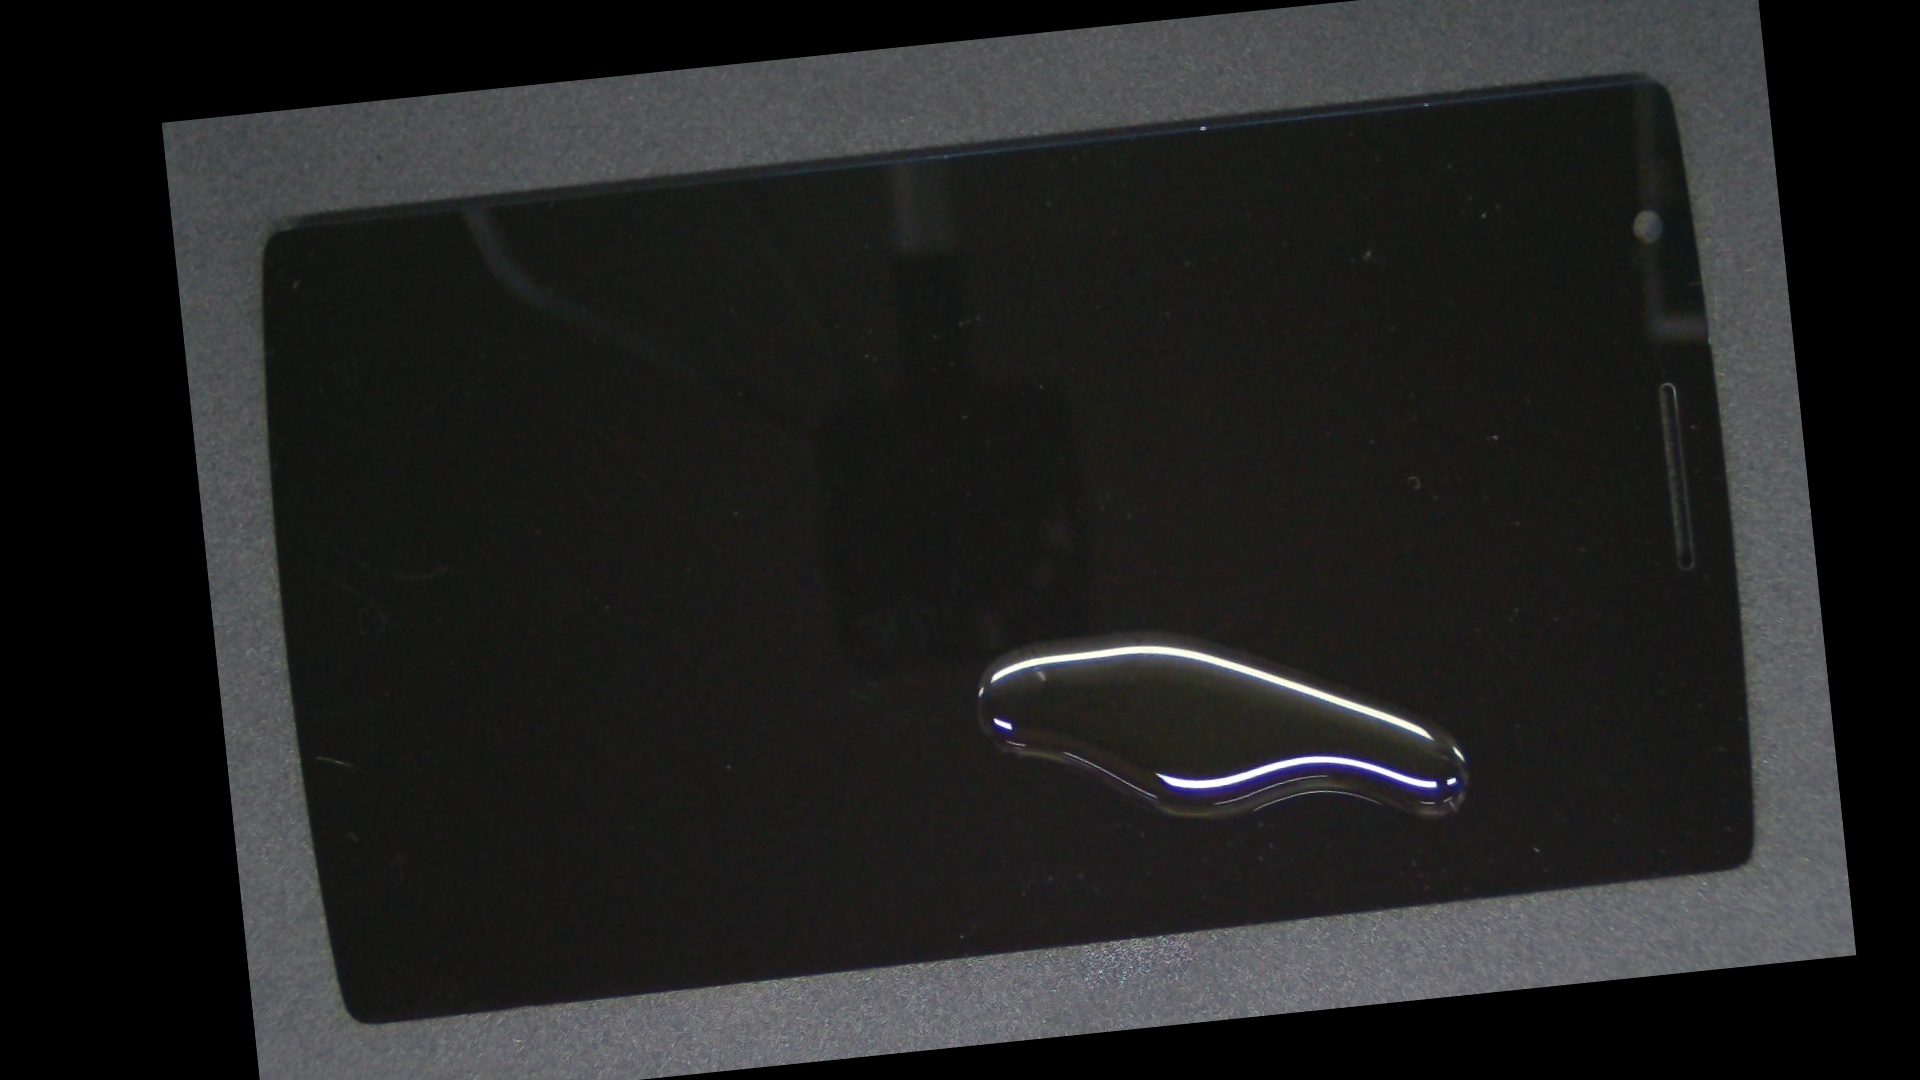oil: (607, 295, 1497, 981)
